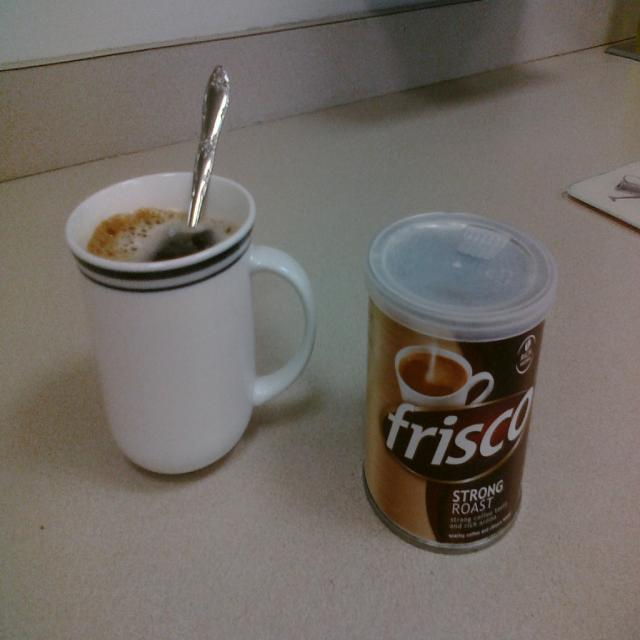Coffee: (64, 148, 305, 479), (399, 350, 469, 395)
